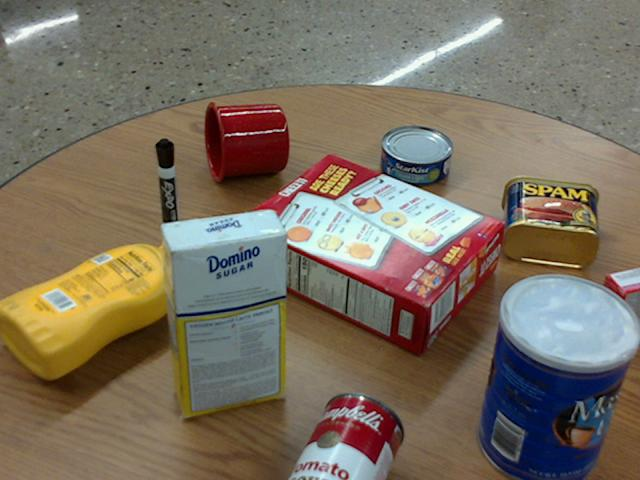cracker_box: (238, 153, 501, 349)
gelatin_box: (589, 266, 639, 347)
large_marker: (155, 138, 179, 242)
master_chef_can: (477, 274, 638, 479)
mug: (203, 102, 288, 182)
mustard_bottle: (0, 242, 196, 378)
potted_meat_can: (503, 174, 598, 267)
sugar_box: (160, 210, 284, 415)
tomato_soup_can: (289, 391, 404, 479)
tuna_fish_can: (381, 125, 452, 184)
